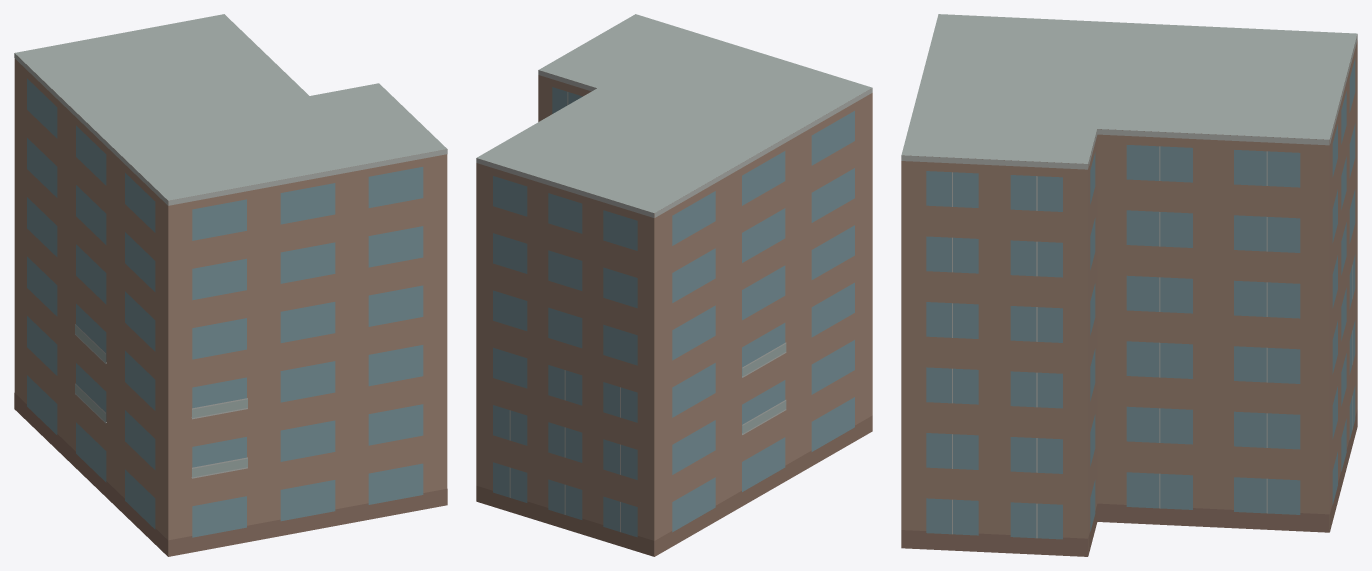
The model's file is survey-upis-32662994.glb.
3 renders of one model, left to right at view 1: azimuth 30°, elevation 25°; view 2: azimuth 150°, elevation 25°; view 3: azimuth 270°, elevation 25°, orthographic. The views are drawn at different scales.
Parts seen in each view (by area): view 1: survey-upis-32662994.tmp; view 2: survey-upis-32662994.tmp; view 3: survey-upis-32662994.tmp.
Boxes of the visible parts, box(x1,y1,x2,y2) form: survey-upis-32662994.tmp: box(14, 14, 447, 556); survey-upis-32662994.tmp: box(476, 14, 872, 556); survey-upis-32662994.tmp: box(901, 14, 1357, 556).
Bounding box in the file's own units: 13.93 × 17 × 17.9.
